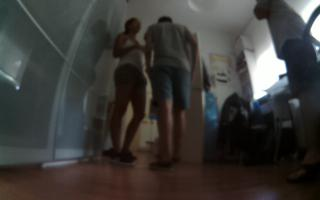person: (245, 1, 320, 189), (140, 12, 202, 176), (106, 12, 154, 168)
